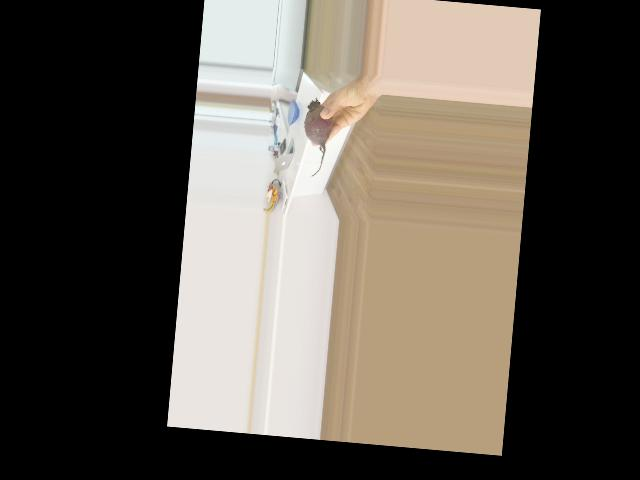beet: (300, 98, 334, 178)
